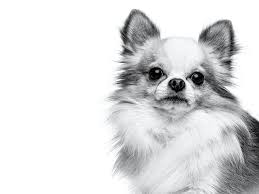Bulldog: (96, 2, 259, 194)
